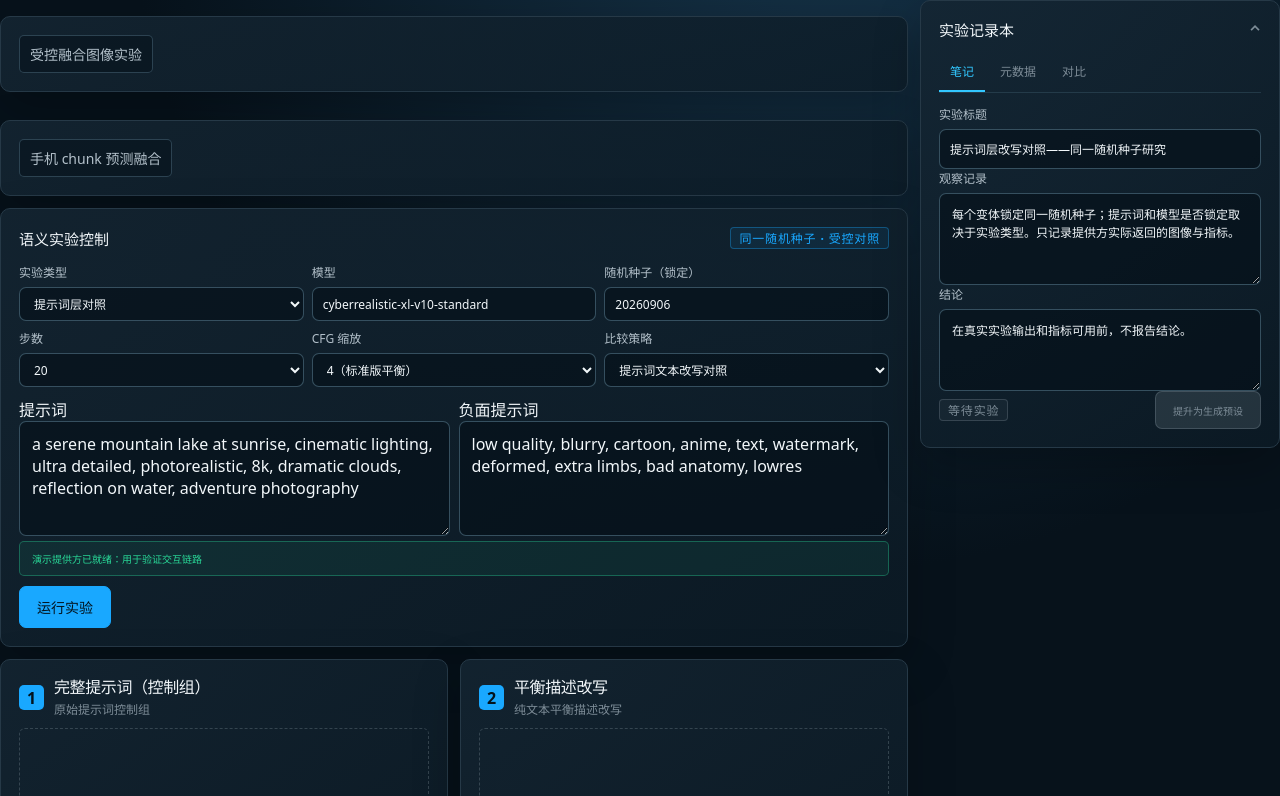
Test: Lab page › keeps polling long serial experiments until terminal state and blocks duplicate submission
Click the button "运行实验": (65, 607) left=19, top=586, right=111, bottom=628
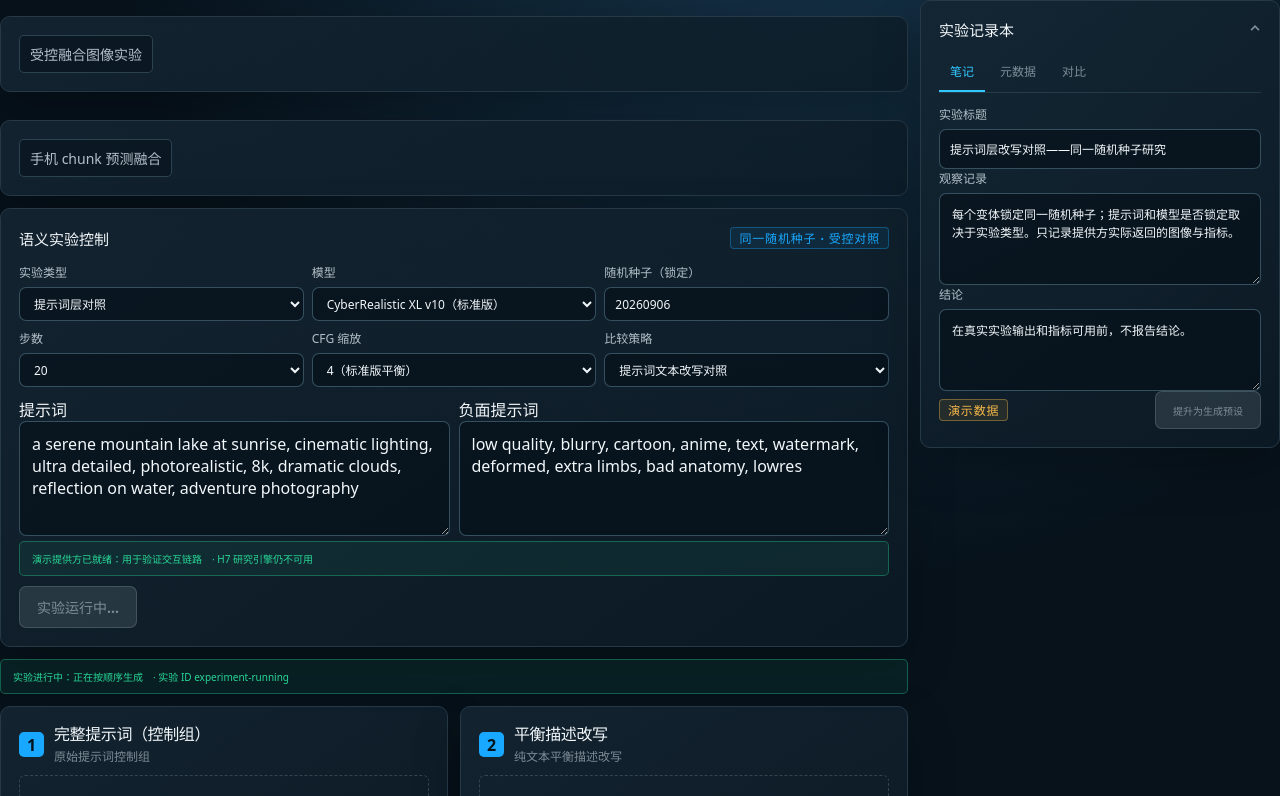
Check: the button "实验运行中…" is disabled
Click the button "实验运行中…": (78, 607) left=19, top=586, right=137, bottom=628
Wait 121000 ms
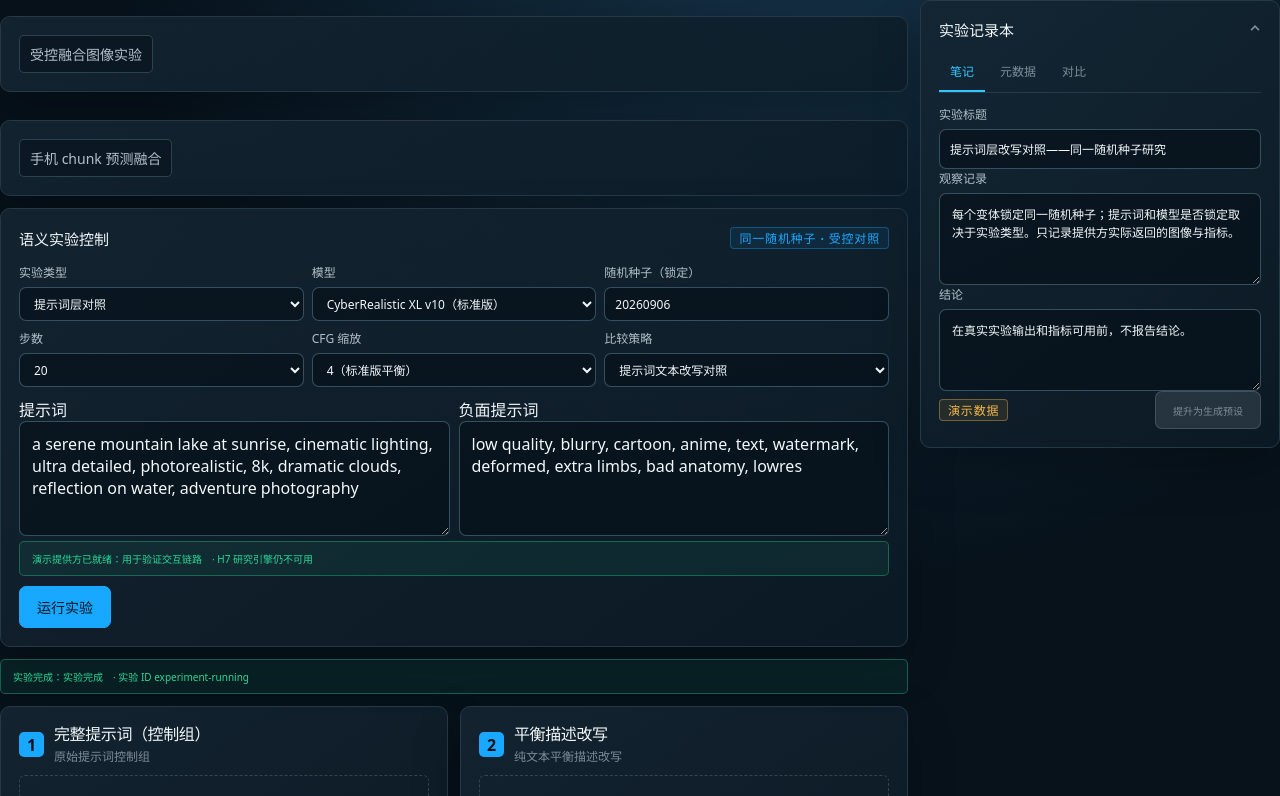
Check: the text "实验完成：实验完成 · 实验 ID experiment-running" is shown, box left=0, top=659, right=908, bottom=694
Check: the button "运行实验" is enabled, box left=19, top=586, right=111, bottom=628
